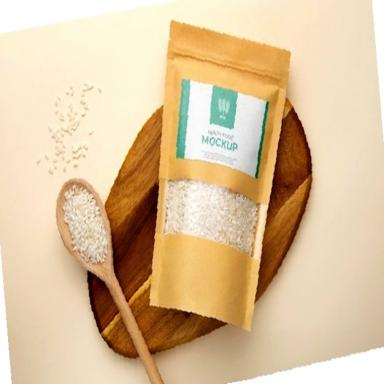rice package: (151, 22, 290, 329)
